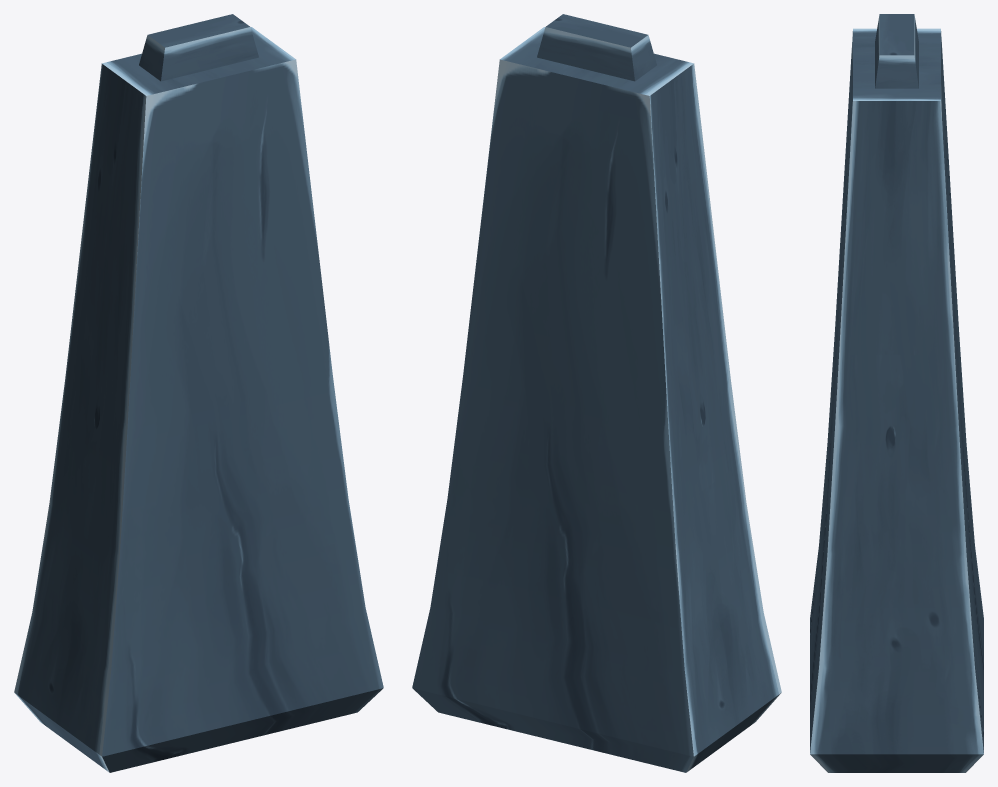
Rendered from SM_PROP_gravestone_v10_02.fbx.
The picture shows the model from 3 angles, left to right: view 1: azimuth 30°, elevation 25°; view 2: azimuth 150°, elevation 25°; view 3: azimuth 270°, elevation 25°; orthographic projection.
Parts seen in each view (by area): view 1: SM_PROP_gravestone_v10_02; view 2: SM_PROP_gravestone_v10_02; view 3: SM_PROP_gravestone_v10_02.
Boxes of the visible parts, x1,y1,x2,y2 form: SM_PROP_gravestone_v10_02: (14,14,383,772); SM_PROP_gravestone_v10_02: (412,14,781,772); SM_PROP_gravestone_v10_02: (810,14,983,772).
Bounding box in the file's own units: 88.55 × 206 × 47.89.
